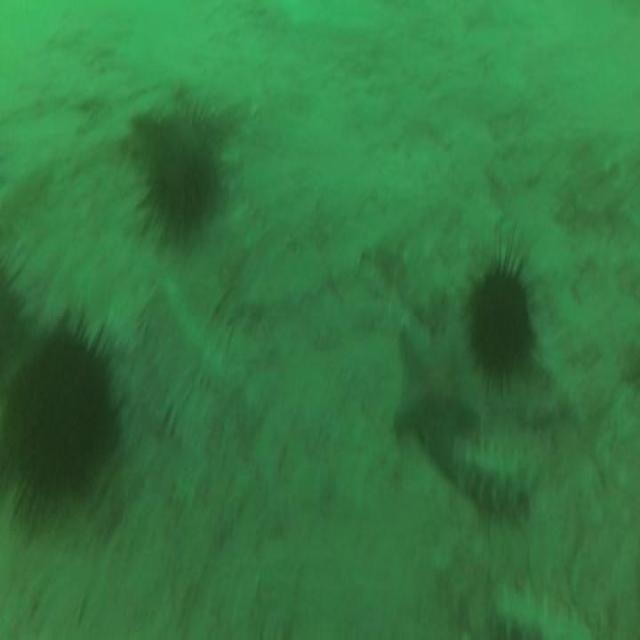holothurian: (444, 425, 546, 533)
scallop: (0, 299, 128, 534), (121, 87, 236, 259), (459, 229, 548, 398)
starfish: (388, 314, 484, 476)
